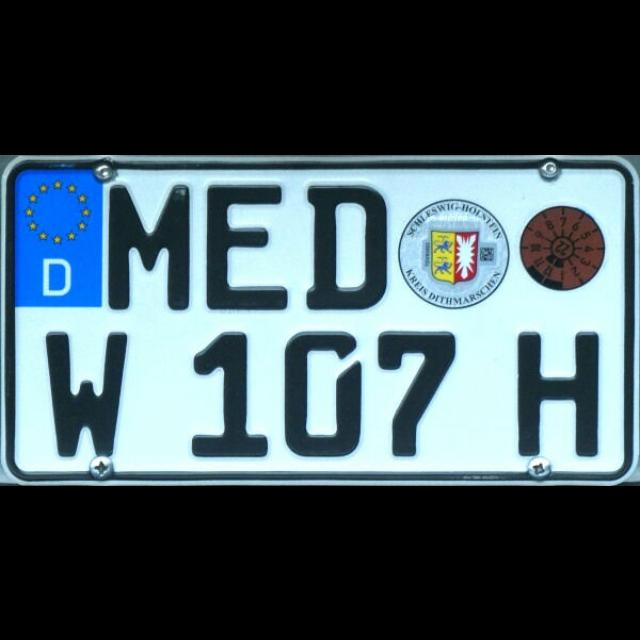d_license_plate: (11, 167, 627, 475)
